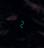two: (19, 20, 23, 27)
